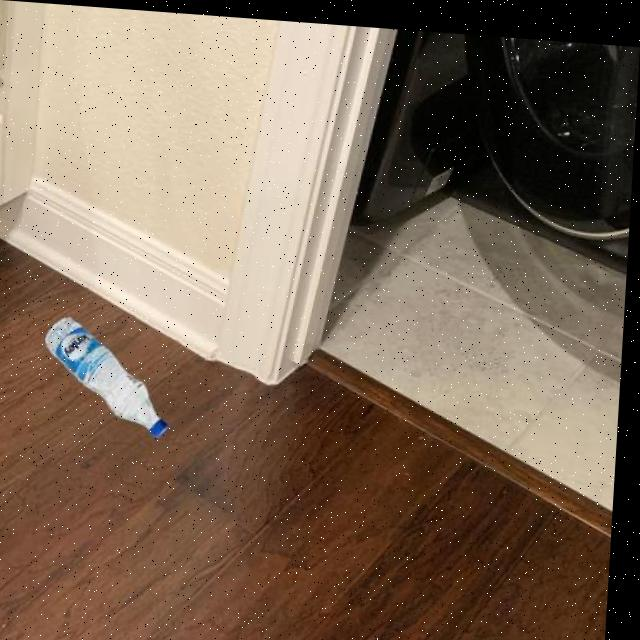bottle: (43, 313, 178, 436)
